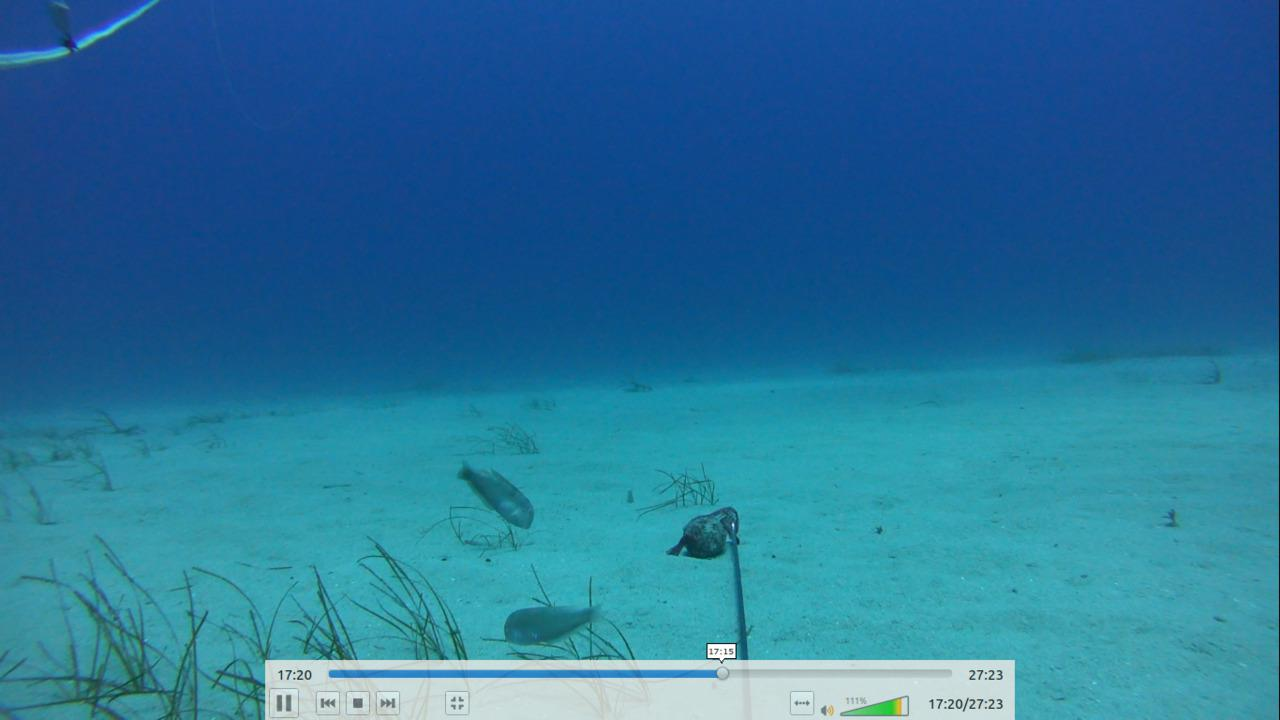raor: (449, 454, 541, 538), (495, 598, 606, 646)
